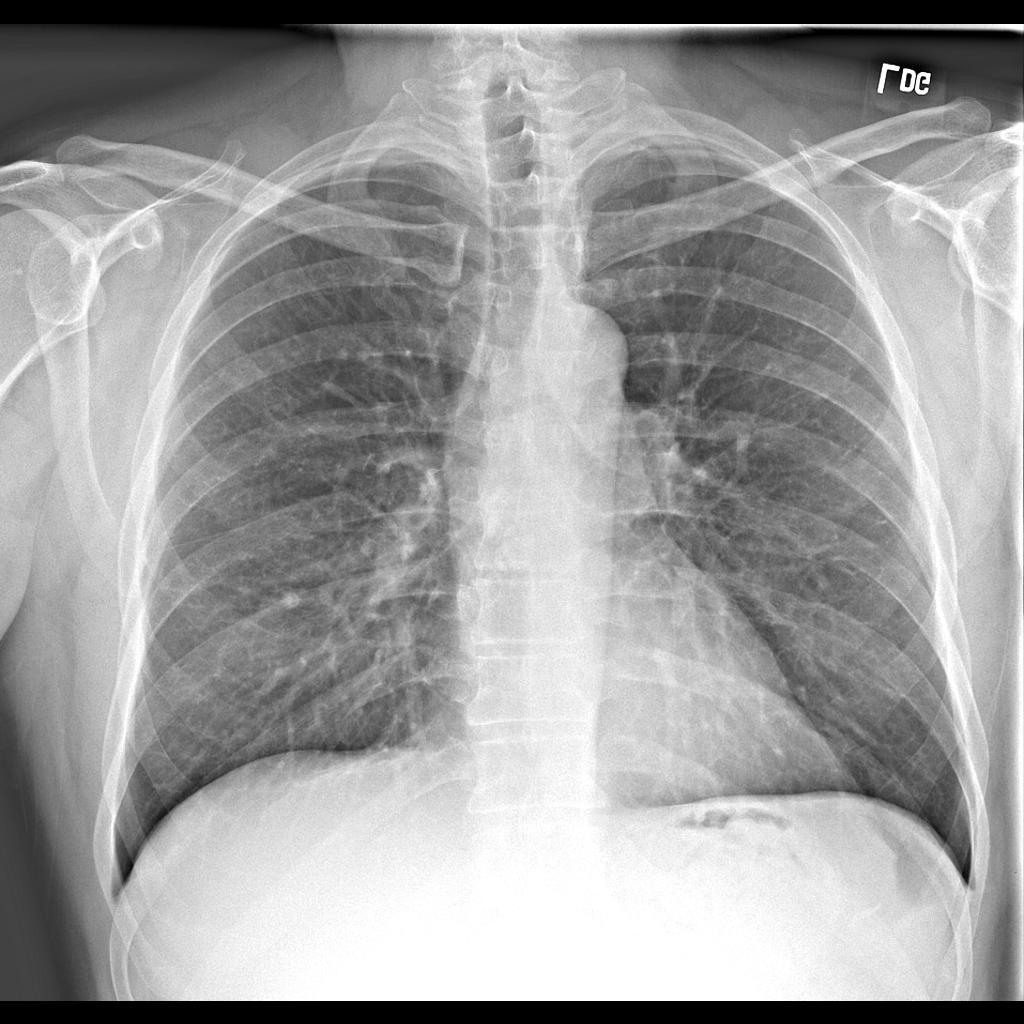Nodule: (281, 594, 302, 611)
